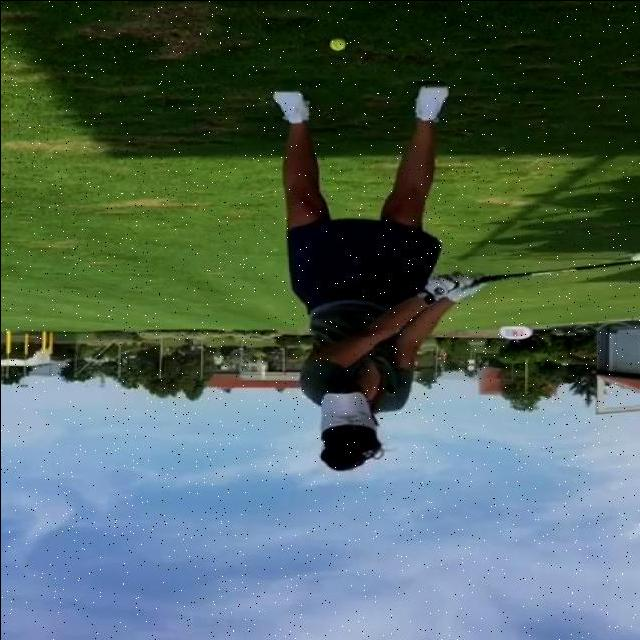ClubHandle: (473, 261, 640, 283)
GolfBall: (324, 38, 344, 50)
